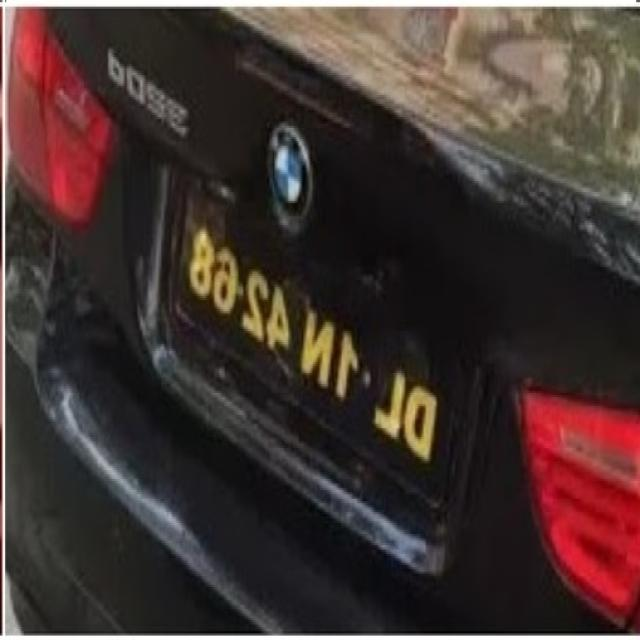number-plate: (141, 118, 508, 592)
